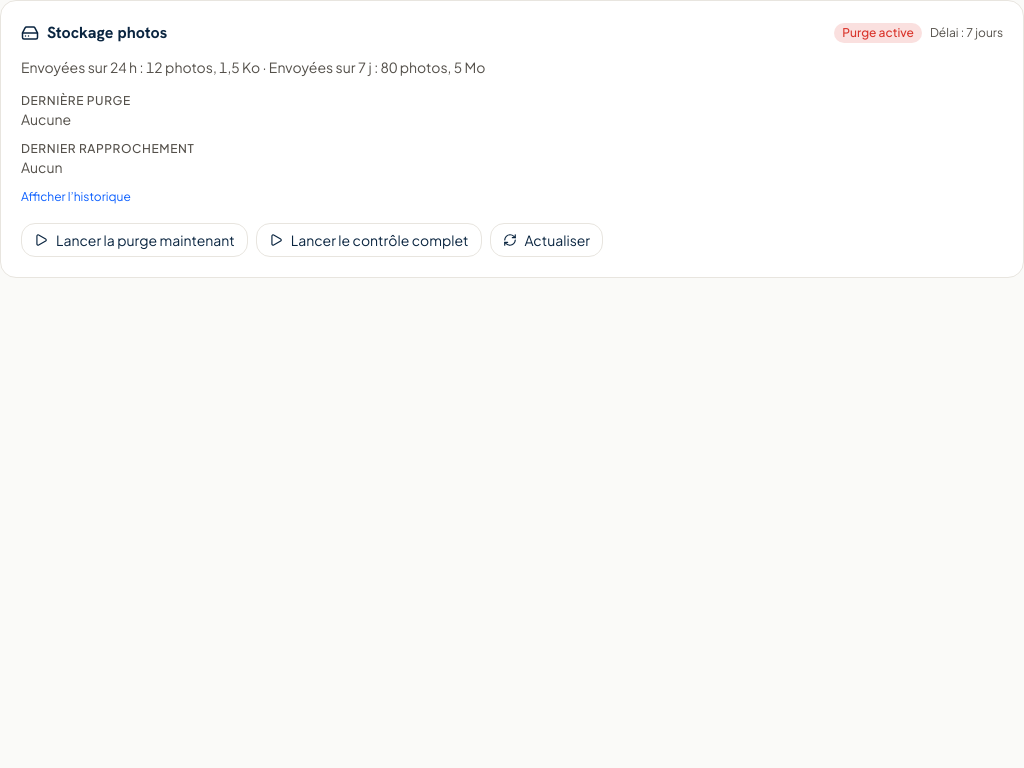
Scenario: PhotoStorageCard › purge réelle : avertissement de suppression définitive, ton danger
Click the button with test id "run-purge" at (134,240), box [21,223,248,257]
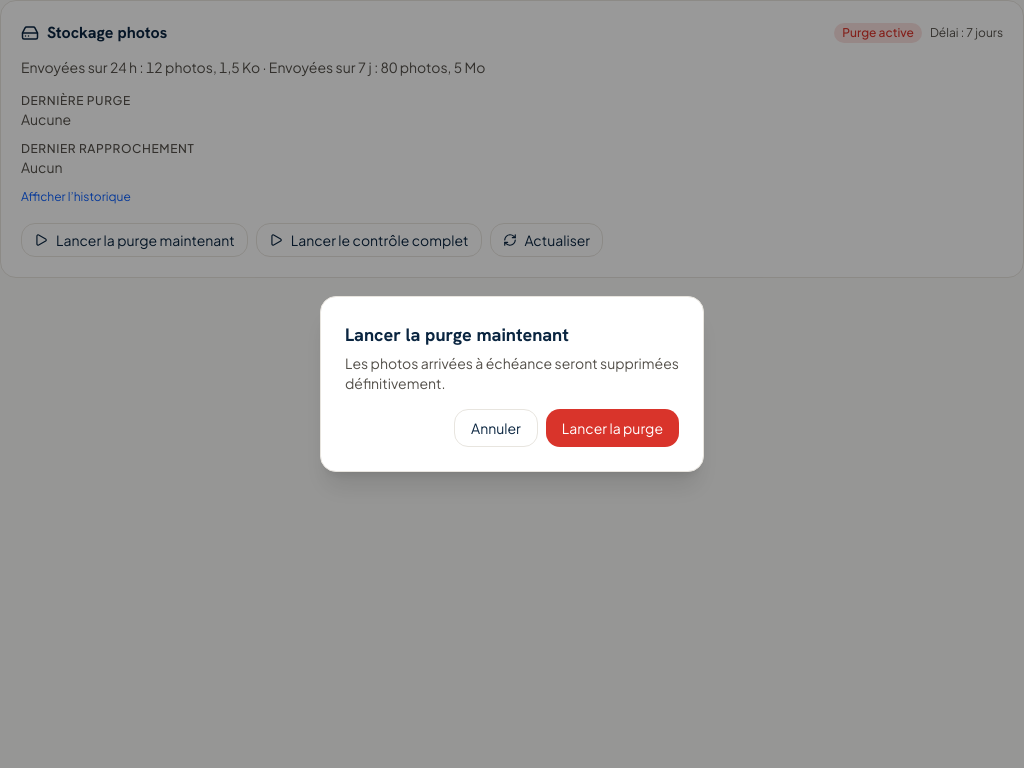
Check: the element with test id "overlay" shows "Les photos arrivées à échéance seront supprimées définitivement.", box [345,354,679,392]
